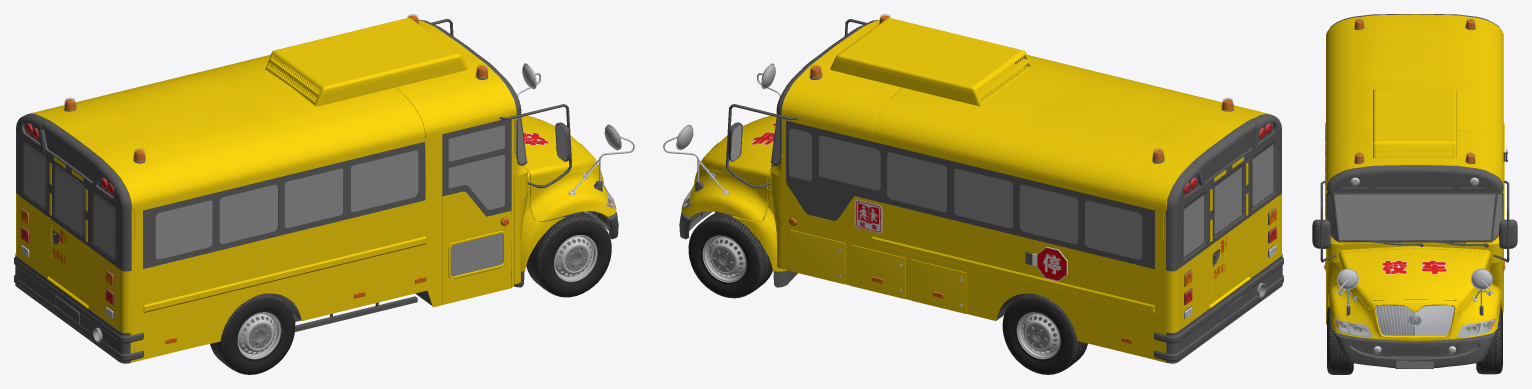
The model's file is SchoolBus.glb.
The picture shows the model from 3 angles, left to right: view 1: azimuth 30°, elevation 25°; view 2: azimuth 150°, elevation 25°; view 3: azimuth 270°, elevation 25°; orthographic projection. The views are drawn at different scales.
Parts seen in each view (by area): view 1: Xiaoche_01, Xiaoche_03, Xiaoche_02, Xiaoche_wheelFR, Xiaoche_wheelBR, Xiaoche_05, Xiaoche_12, Xiaoche_13, Xiaoche_06; view 2: Xiaoche_01, Xiaoche_03, Xiaoche_02, Xiaoche_wheelFL, Xiaoche_wheelBL, Xiaoche_10, Xiaoche_05, Xiaoche_12, Xiaoche_06, Xiaoche_13; view 3: Xiaoche_01, Xiaoche_03, Xiaoche_02, Xiaoche_11, Xiaoche_06, Xiaoche_13, Xiaoche_wheelFR, Xiaoche_wheelFL, Xiaoche_04, Xiaoche_CautionLightOFF.
Boxes of the visible parts, x1,y1,x2,y2 form: Xiaoche_01: [16, 17, 616, 362]; Xiaoche_03: [14, 19, 618, 363]; Xiaoche_02: [24, 117, 525, 276]; Xiaoche_wheelFR: [526, 211, 611, 297]; Xiaoche_wheelBR: [210, 293, 295, 374]; Xiaoche_05: [49, 156, 410, 307]; Xiaoche_12: [522, 64, 620, 160]; Xiaoche_13: [63, 14, 615, 207]; Xiaoche_06: [517, 63, 634, 208]; Xiaoche_01: [681, 17, 1281, 362]; Xiaoche_03: [679, 19, 1283, 363]; Xiaoche_02: [772, 117, 1273, 259]; Xiaoche_wheelFL: [688, 212, 772, 298]; Xiaoche_wheelBL: [1002, 293, 1087, 374]; Xiaoche_10: [854, 199, 1067, 281]; Xiaoche_05: [895, 156, 1248, 309]; Xiaoche_12: [677, 64, 775, 160]; Xiaoche_06: [663, 63, 962, 306]; Xiaoche_13: [682, 14, 1233, 207]; Xiaoche_01: [1325, 14, 1504, 340]; Xiaoche_03: [1312, 14, 1517, 368]; Xiaoche_02: [1327, 194, 1502, 239]; Xiaoche_11: [1375, 305, 1454, 368]; Xiaoche_06: [1334, 268, 1495, 337]; Xiaoche_13: [1334, 18, 1494, 337]; Xiaoche_wheelFR: [1327, 306, 1353, 374]; Xiaoche_wheelFL: [1476, 306, 1502, 374]; Xiaoche_04: [1381, 260, 1447, 274]; Xiaoche_CautionLightOFF: [1355, 19, 1474, 162].
Bounding box in the file's own units: 6.8 × 3.04 × 2.89.
30 materials, 13 textured.
